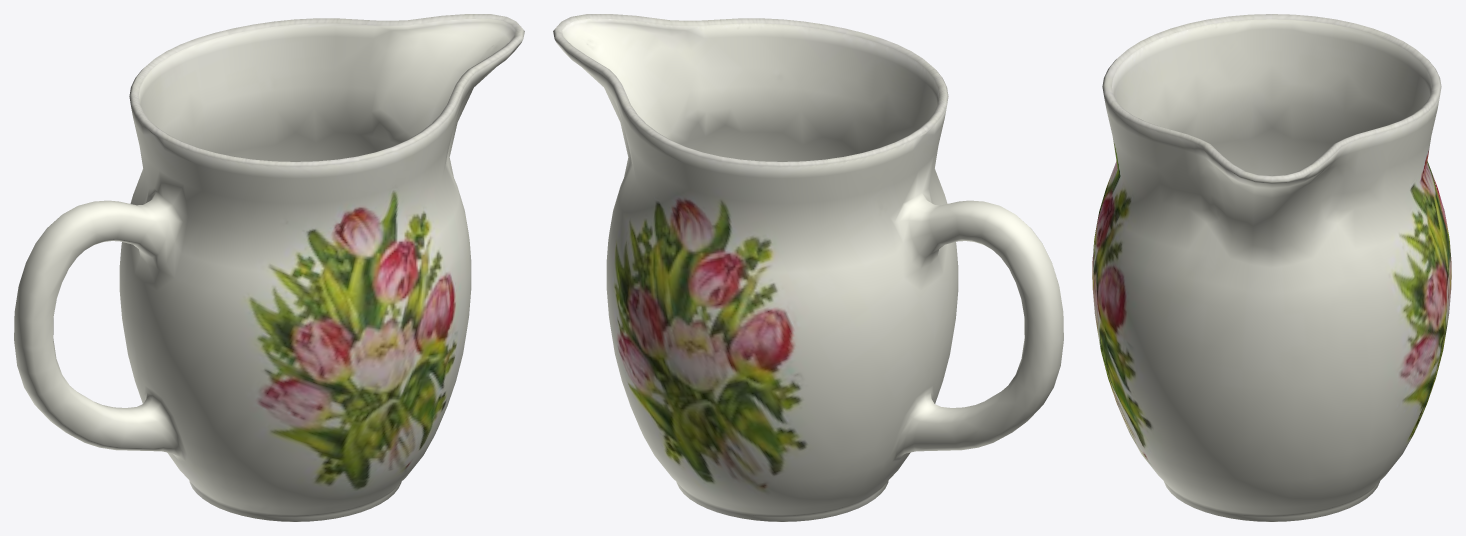
The model's file is jarra.glb.
The picture shows the model from 3 angles, left to right: view 1: azimuth 30°, elevation 25°; view 2: azimuth 150°, elevation 25°; view 3: azimuth 270°, elevation 25°; orthographic projection. The views are drawn at different scales.
Visible parts, largest first — view 1: jug_01; view 2: jug_01; view 3: jug_01.
Boxes of the visible parts, left/top/right/bottom form: jug_01: left=14, top=14, right=524, bottom=521; jug_01: left=553, top=14, right=1063, bottom=521; jug_01: left=1092, top=14, right=1451, bottom=521.
Size of the model in its own units: 0.2753 by 0.2113 by 0.1675.
Materials: 1 (1 with a texture image).
